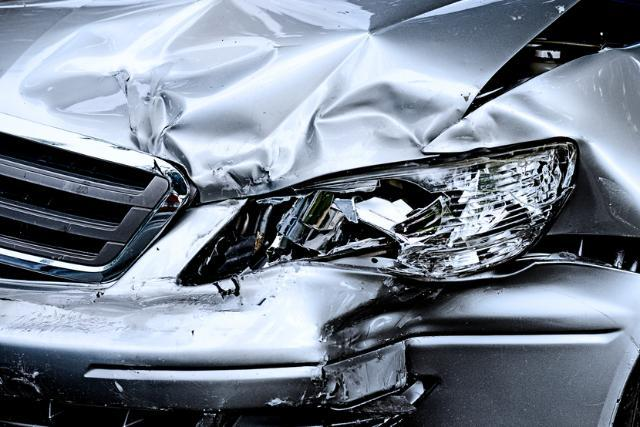Bonnet: (0, 0, 640, 188)
Bumper: (81, 263, 640, 427)
Fender: (424, 46, 640, 232)
Light: (170, 140, 575, 287)
